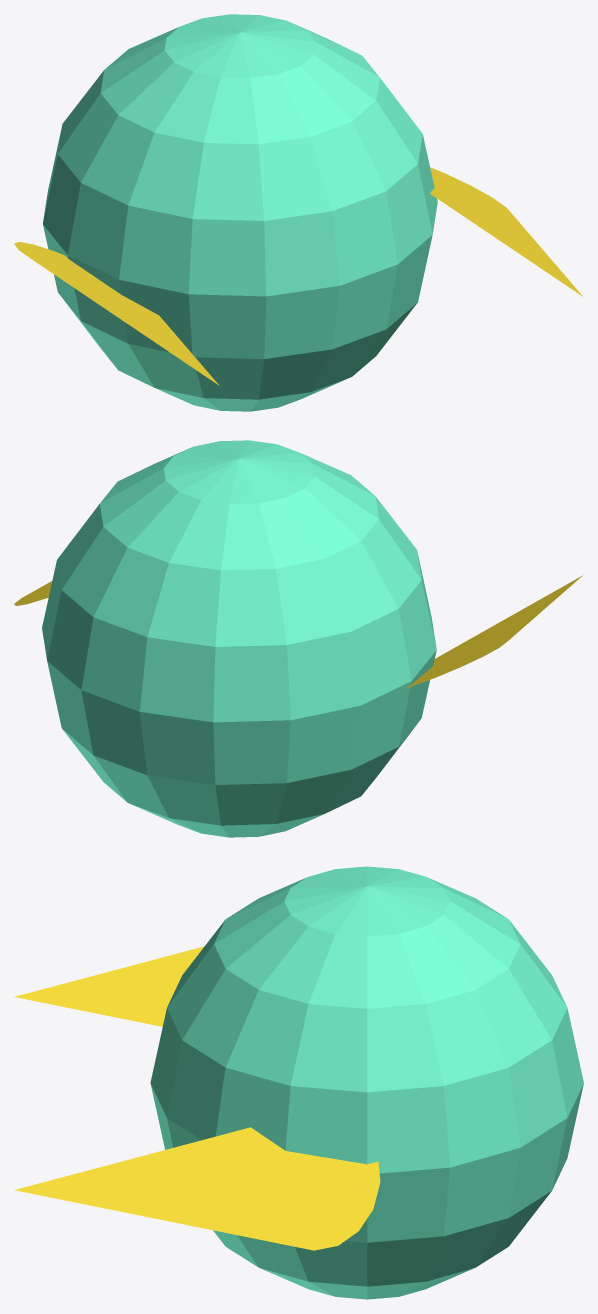
The picture shows the model from 3 angles, top to bottom: view 1: azimuth 30°, elevation 25°; view 2: azimuth 150°, elevation 25°; view 3: azimuth 270°, elevation 25°; orthographic projection. The views are drawn at different scales.
Visible parts, largest first — view 1: Sphere, Curved Surface_ncl1_5, Curved Surface_ncl1_3; view 2: Sphere, Curved Surface_ncl1_5; view 3: Sphere, Curved Surface_ncl1_3, Curved Surface_ncl1_5.
Part boxes in pixels (x1,y1,x2,y2): Sphere: [43, 14, 437, 411]; Curved Surface_ncl1_5: [14, 242, 219, 385]; Curved Surface_ncl1_3: [430, 167, 582, 296]; Sphere: [42, 440, 436, 837]; Curved Surface_ncl1_5: [405, 575, 582, 688]; Sphere: [150, 866, 583, 1299]; Curved Surface_ncl1_3: [14, 1127, 380, 1250]; Curved Surface_ncl1_5: [14, 946, 204, 1026].
Bounding box in the file's own units: 224 × 160 × 210.
